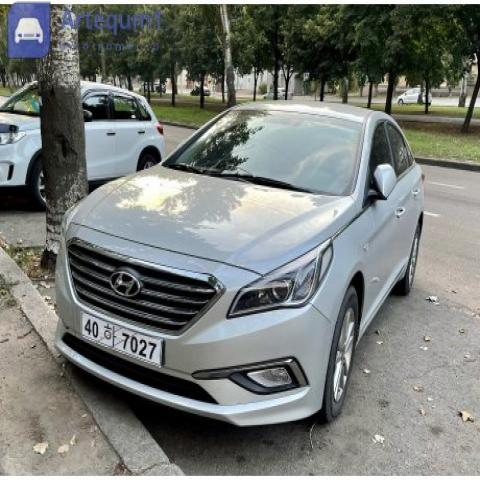LP: (77, 306, 169, 373)
